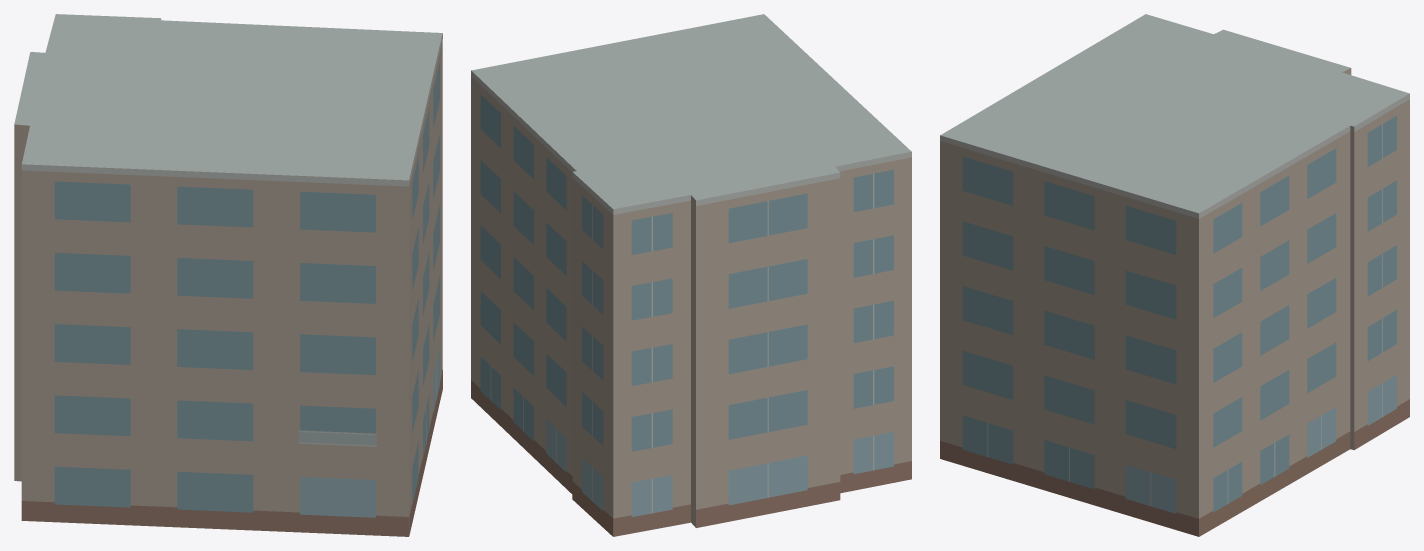
The model's file is survey-upis-32840636.glb.
The picture shows the model from 3 angles, left to right: view 1: azimuth 30°, elevation 25°; view 2: azimuth 150°, elevation 25°; view 3: azimuth 270°, elevation 25°; orthographic projection. The views are drawn at different scales.
Visible parts, largest first — view 1: survey-upis-32840636.tmp; view 2: survey-upis-32840636.tmp; view 3: survey-upis-32840636.tmp.
Boxes of the visible parts, x1,y1,x2,y2 form: survey-upis-32840636.tmp: [14, 14, 442, 536]; survey-upis-32840636.tmp: [471, 14, 911, 536]; survey-upis-32840636.tmp: [940, 14, 1409, 536].
Bounding box in the file's own units: 18.65 × 14.1 × 18.56.
